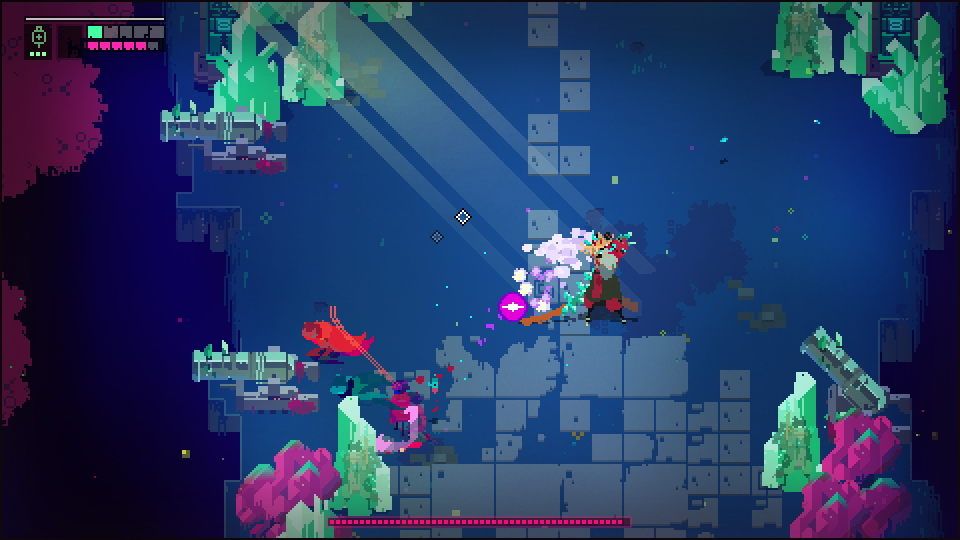hanged_man: (529, 228, 637, 326)
hanged_shot: (496, 291, 526, 324)
player: (298, 317, 378, 356)
